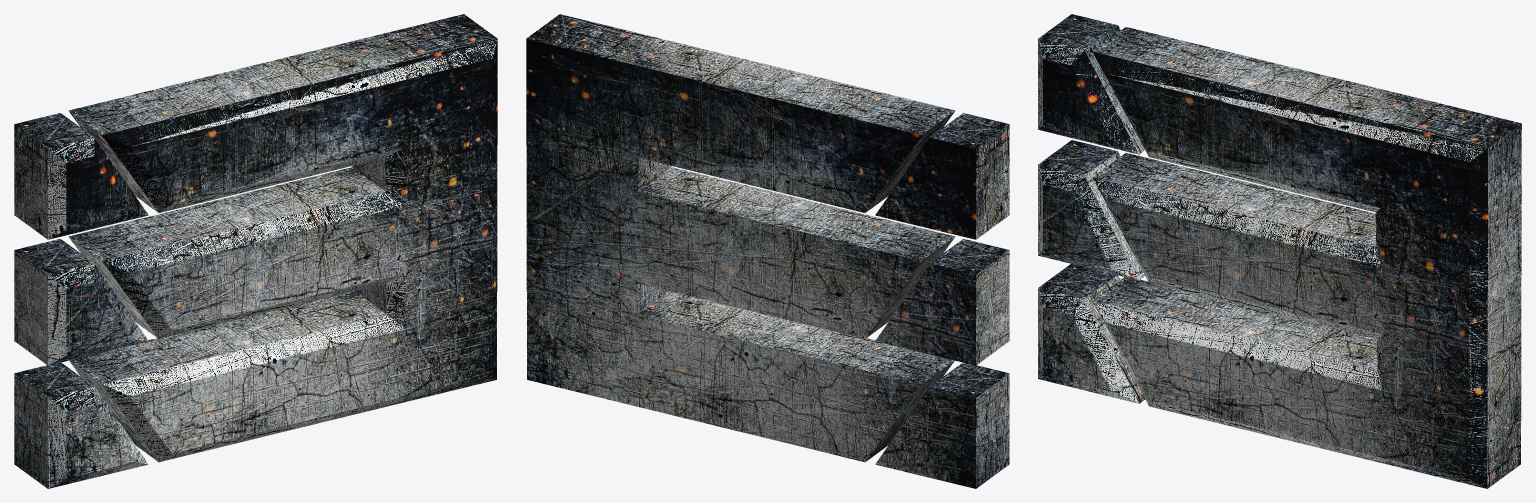
3 views of the same model, side by side, from view 1: azimuth 30°, elevation 25°; view 2: azimuth 150°, elevation 25°; view 3: azimuth 330°, elevation 25° (orthographic).
Parts seen in each view (by area): view 1: 3; view 2: 3; view 3: 3.
Part boxes in pixels (left/top/right/bottom): 3: left=14, top=14, right=497, bottom=488; 3: left=526, top=14, right=1009, bottom=488; 3: left=1038, top=14, right=1521, bottom=488.
Bounding box in the file's own units: 77.14 × 55.87 × 12.
Materials: 1 (1 with a texture image).
